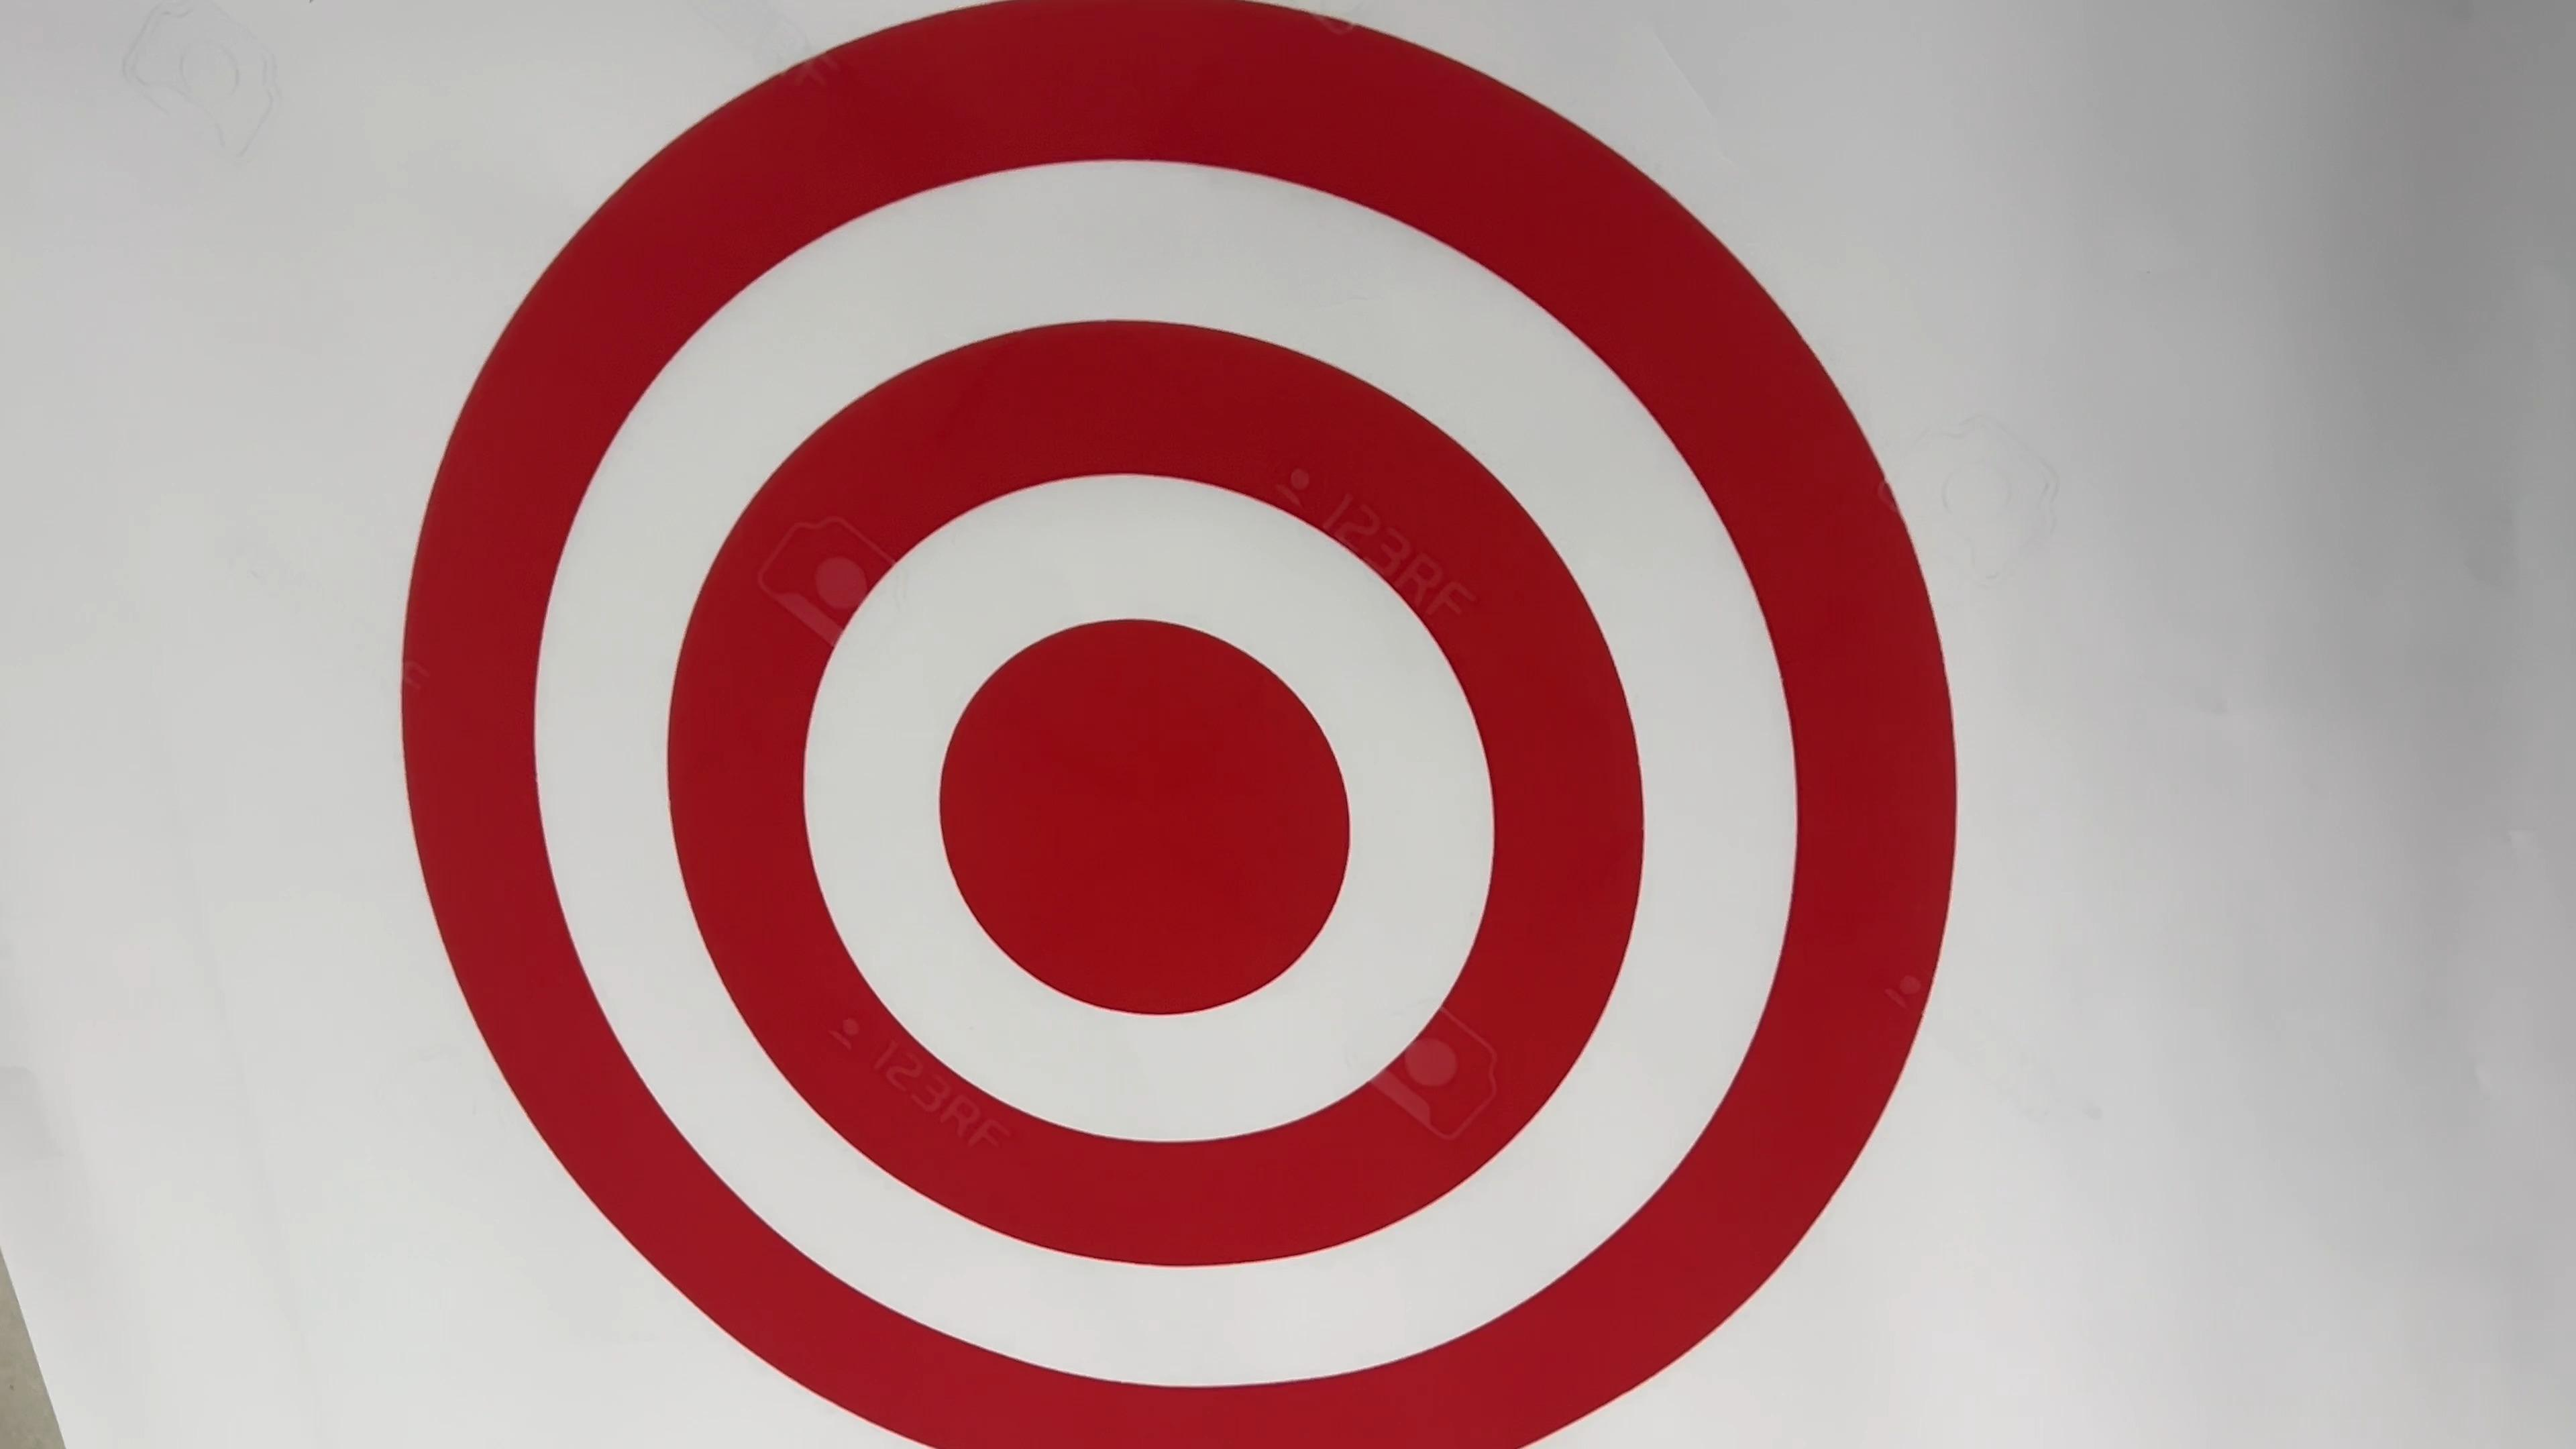target_red: (329, 2, 1982, 1449)
